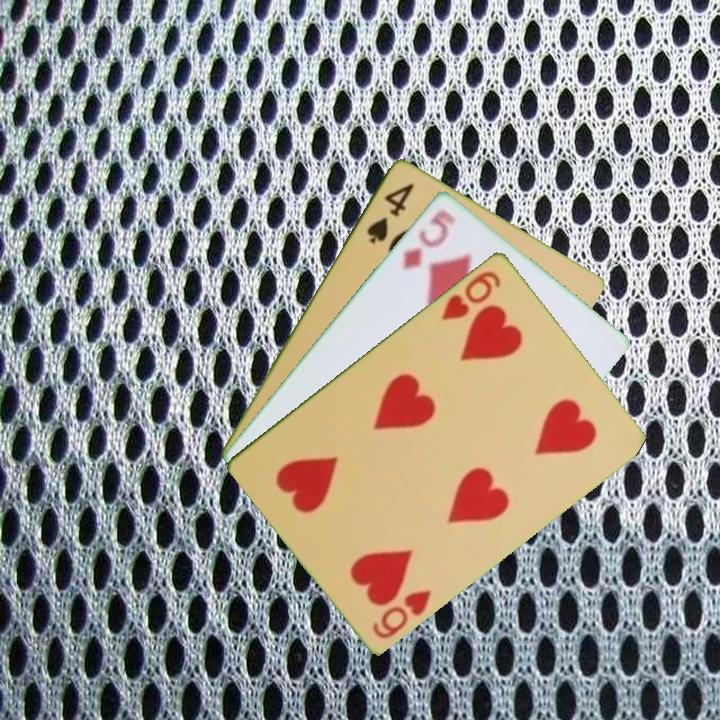4s: (363, 179, 417, 246)
5d: (398, 205, 459, 272)
6h: (437, 266, 504, 323), (369, 585, 435, 641)
